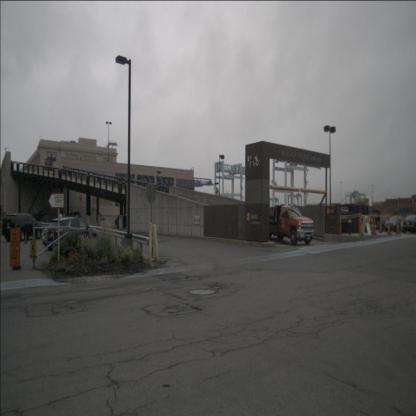movable_object-trafficcone: (372, 216, 378, 235), (386, 216, 392, 235), (378, 215, 384, 233), (359, 216, 364, 236), (396, 214, 401, 233), (370, 215, 374, 235), (338, 216, 342, 235), (24, 232, 28, 244)
vehicle-car: (47, 216, 99, 255), (2, 211, 42, 242), (384, 215, 406, 233), (400, 213, 416, 234)
vehicle-truck: (251, 203, 314, 247)
